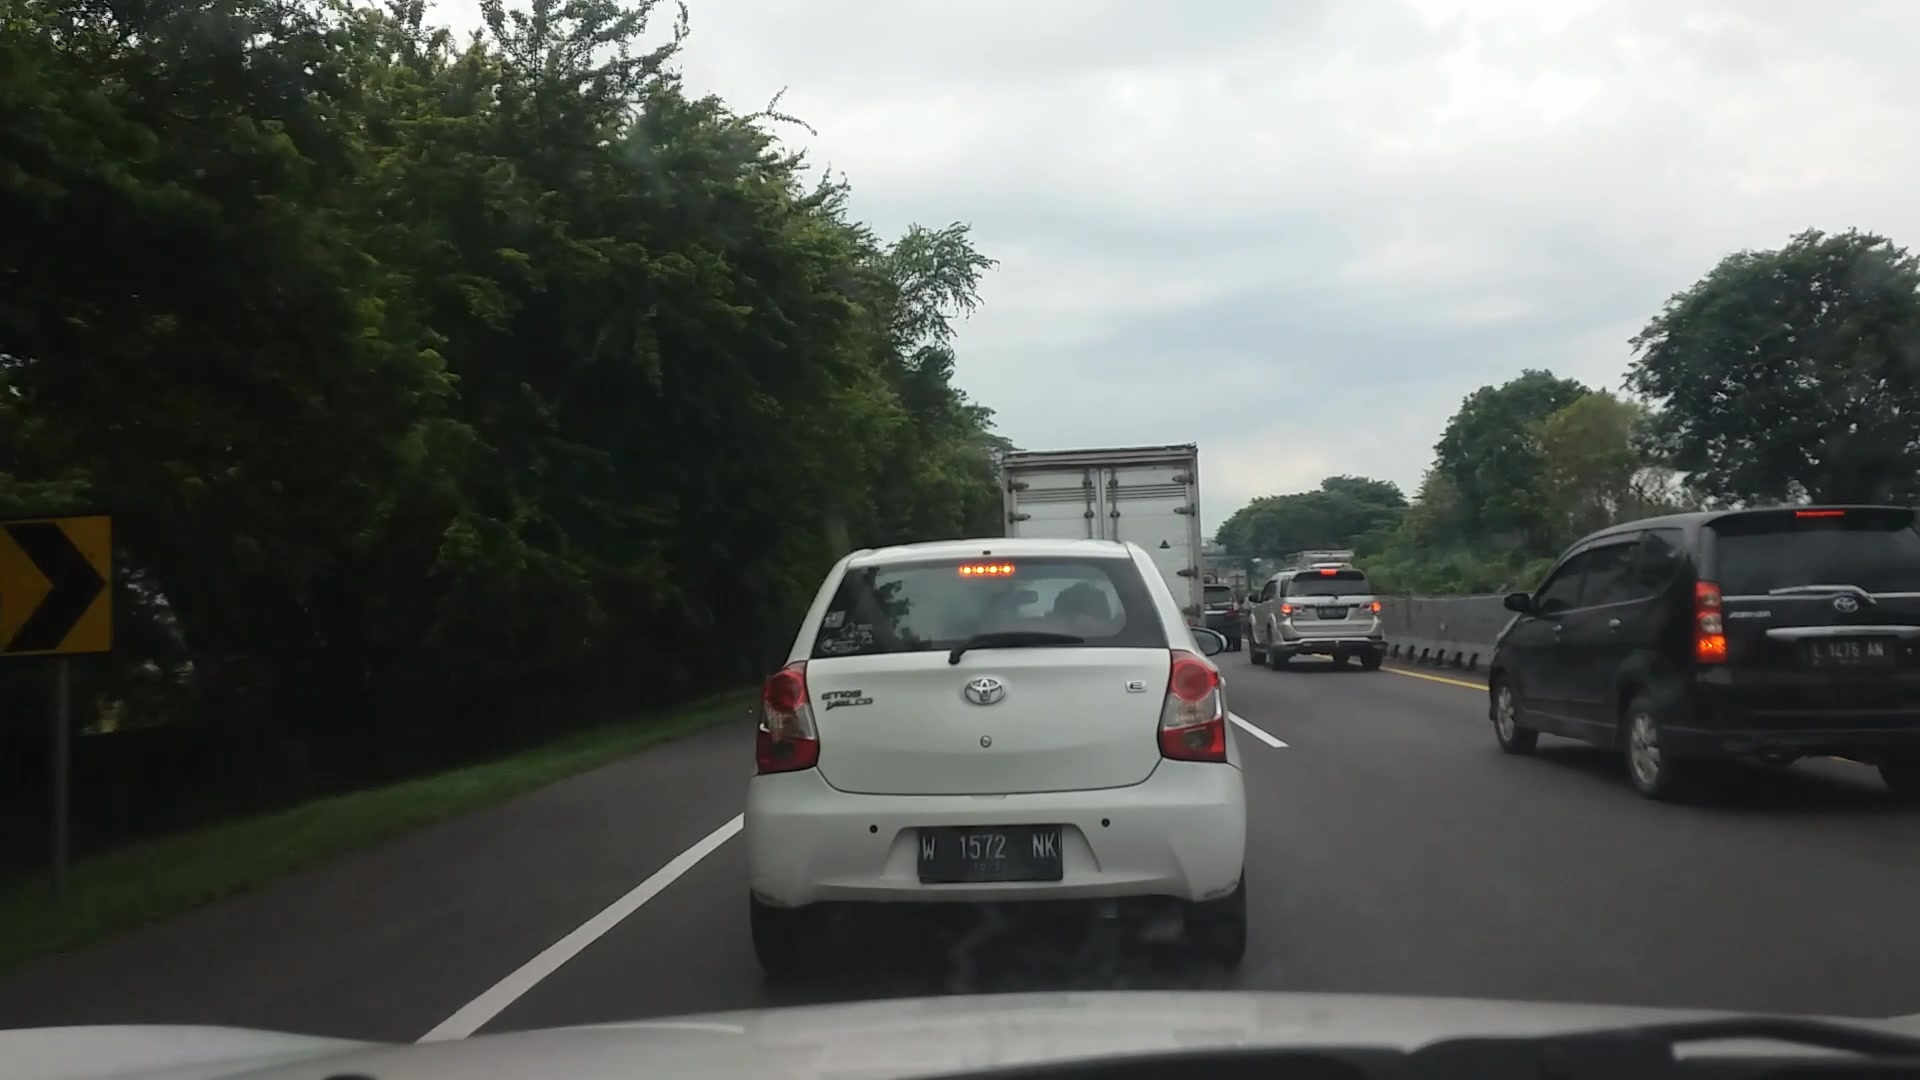plate_positive: (918, 827, 1062, 880)
